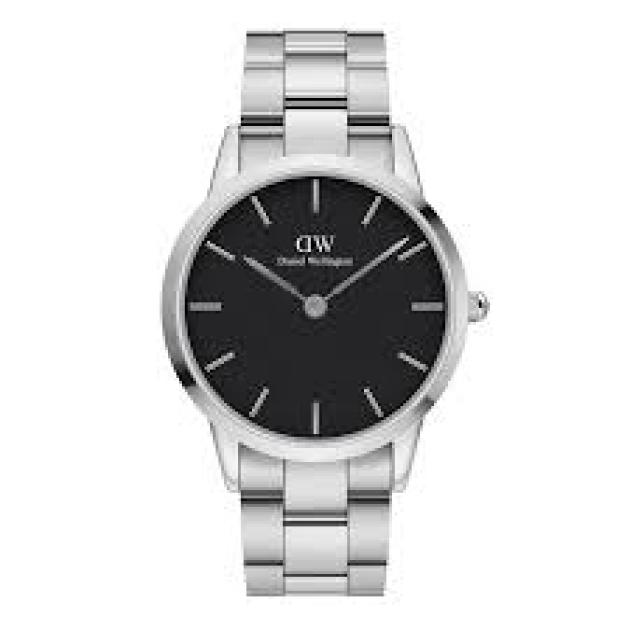wristwatch: (134, 22, 504, 620)
